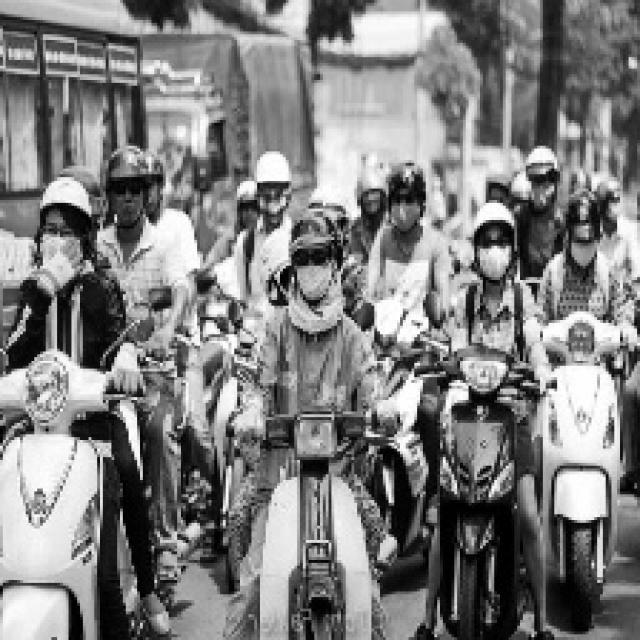Bike: (7, 353, 126, 639), (240, 412, 380, 638), (533, 308, 629, 629), (431, 349, 525, 629)
